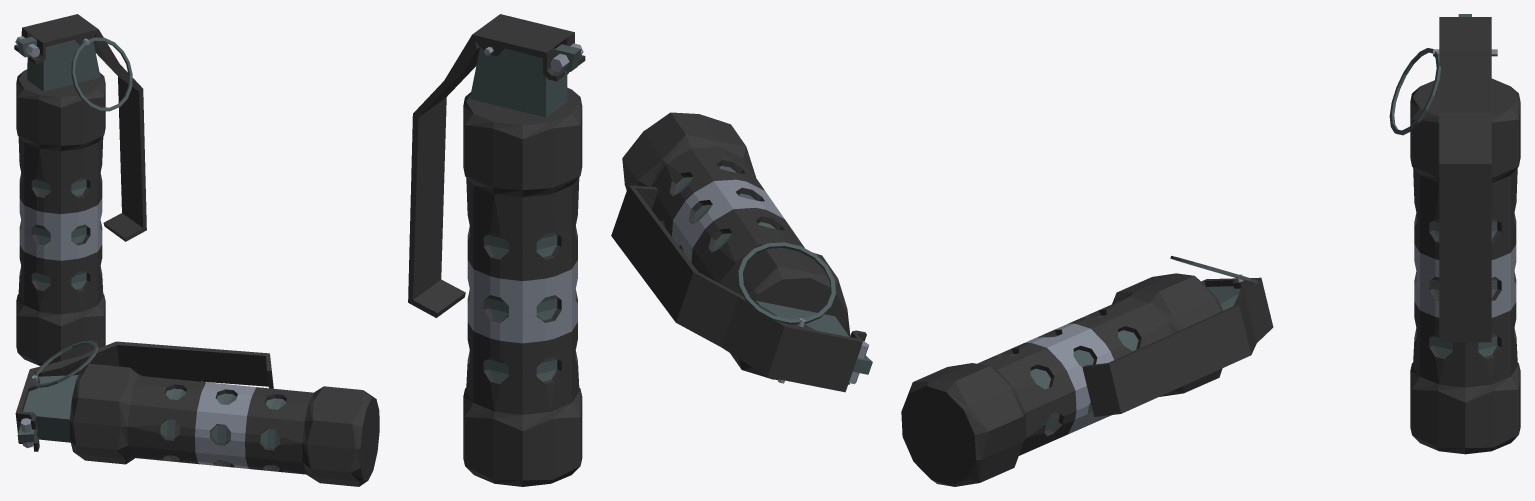
File: Stun Grenade.fbx
3 views of the same model, side by side, from view 1: azimuth 30°, elevation 25°; view 2: azimuth 150°, elevation 25°; view 3: azimuth 270°, elevation 25° (orthographic). The views are drawn at different scales.
Visible parts, largest first — view 1: Cylinder004, Cylinder001, Plane003, Plane002, Box001, Box002, Tube001, Tube002; view 2: Cylinder001, Cylinder004, Plane003, Plane002, Box001, Tube002, Box002; view 3: Cylinder004, Cylinder001, Plane002, Plane003, Tube001.
Part boxes in pixels (x1,y1,x2,y2): Cylinder004: (69,363,379,486); Cylinder001: (16,69,105,365); Plane003: (15,341,273,451); Plane002: (14,14,146,241); Box001: (17,36,100,91); Box002: (17,375,78,442); Tube001: (71,37,132,111); Tube002: (32,340,98,387); Cylinder001: (463,87,582,486); Cylinder004: (622,112,850,379); Plane003: (611,185,866,392); Plane002: (408,14,585,317); Box001: (470,43,581,117); Tube002: (737,242,835,324); Box002: (755,300,872,374); Cylinder004: (901,273,1222,486); Cylinder001: (1410,78,1520,454); Plane002: (1439,17,1491,342); Plane003: (1082,277,1273,416); Tube001: (1389,48,1440,135).
Bounding box in the file's own units: 56.23 × 63.65 × 89.23.
3 materials, 3 textured.
